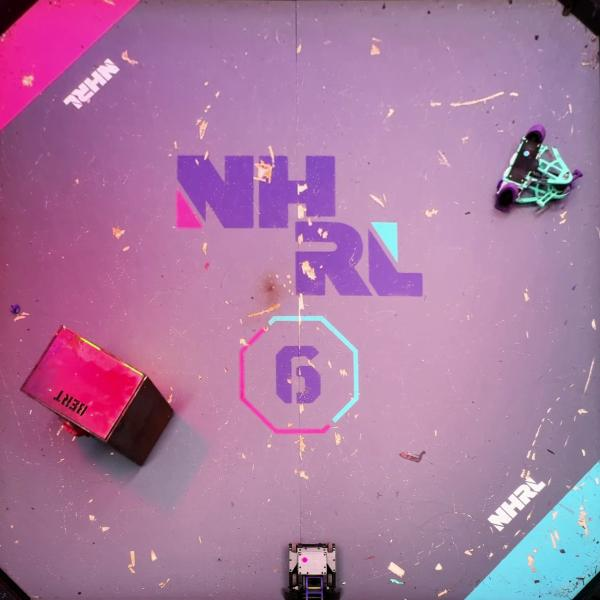housebot: (18, 324, 178, 468)
robot: (492, 123, 582, 213), (283, 541, 342, 600)
